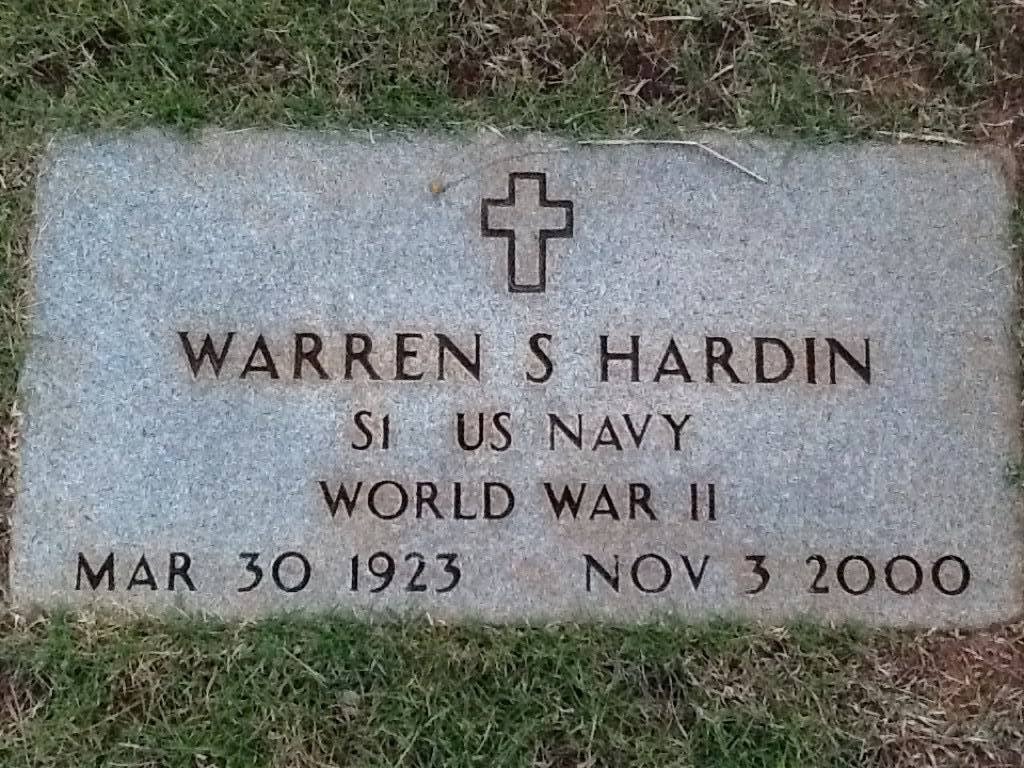flat: (0, 125, 1024, 629)
